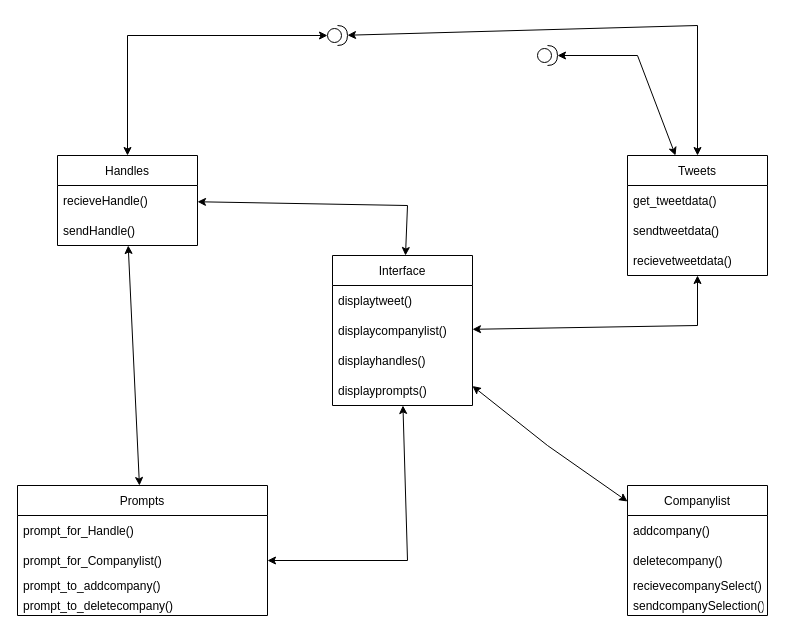
Some shapes in this 785 by 633 pixel diagram are drawn without their labels. The shapes that lost their labels are listed below. From the top down, each one's centre as x and y in pixels, then its label:
At point 337,35: "Tweepy".
At point 547,55: "my sql".
